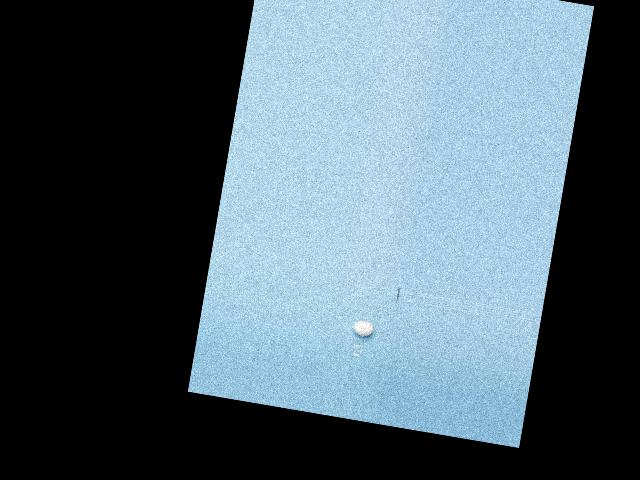egg: (353, 319, 374, 337)
